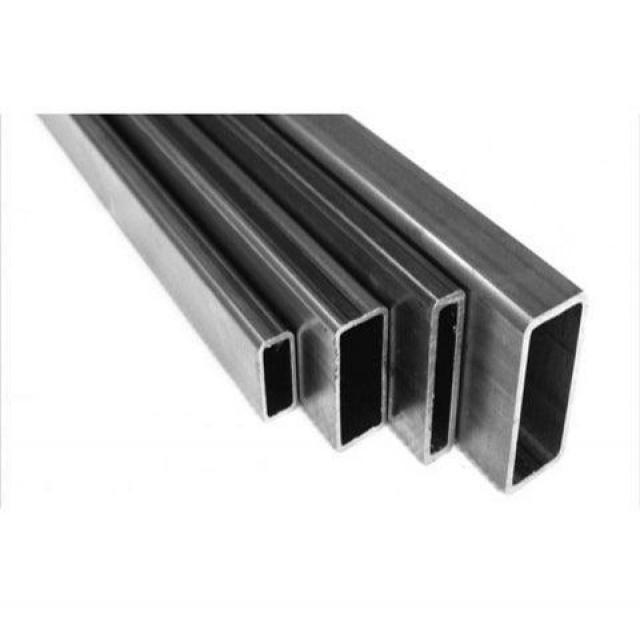pipe: (506, 286, 589, 498), (332, 303, 391, 457), (420, 287, 468, 467), (254, 330, 303, 425)
